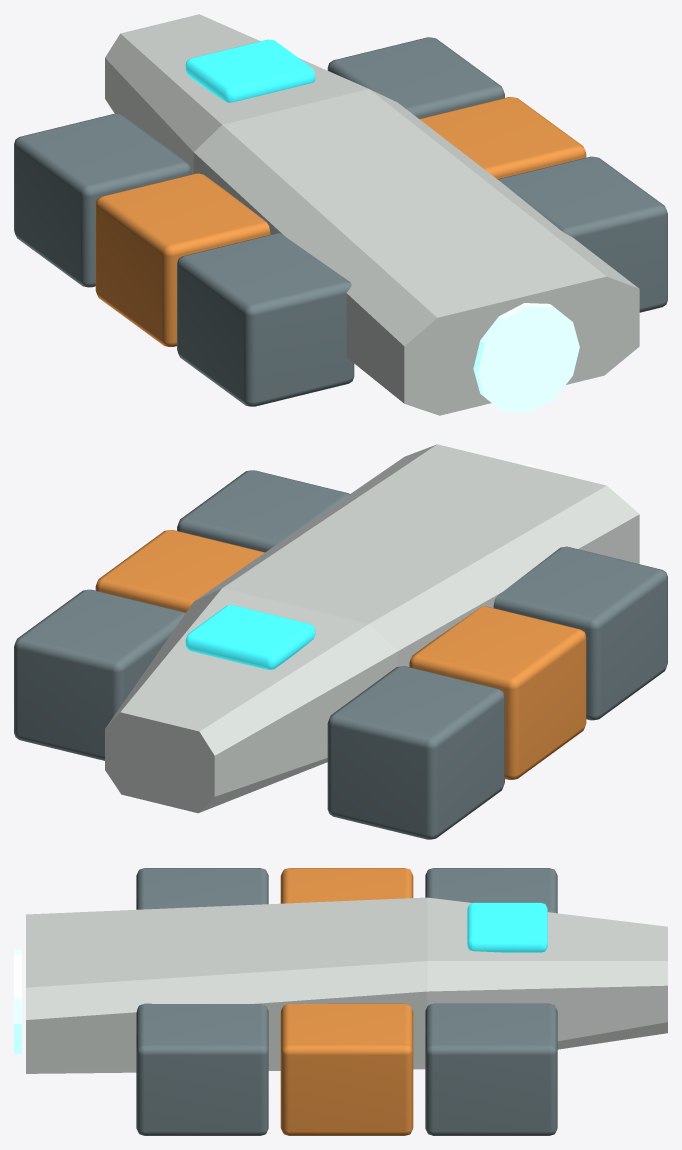
Rendered from transport.glb.
3 renders of one model, top to bottom at view 1: azimuth 30°, elevation 25°; view 2: azimuth 150°, elevation 25°; view 3: azimuth 270°, elevation 25°, orthographic. The views are drawn at different scales.
Parts seen in each view (by area): view 1: transport; view 2: transport; view 3: transport.
Part boxes in pixels (x1,y1,x2,y2): transport: (14, 14, 667, 415); transport: (14, 444, 667, 839); transport: (14, 868, 667, 1135).
Bounding box in the file's own units: 5.4 × 1.78 × 8.15.
